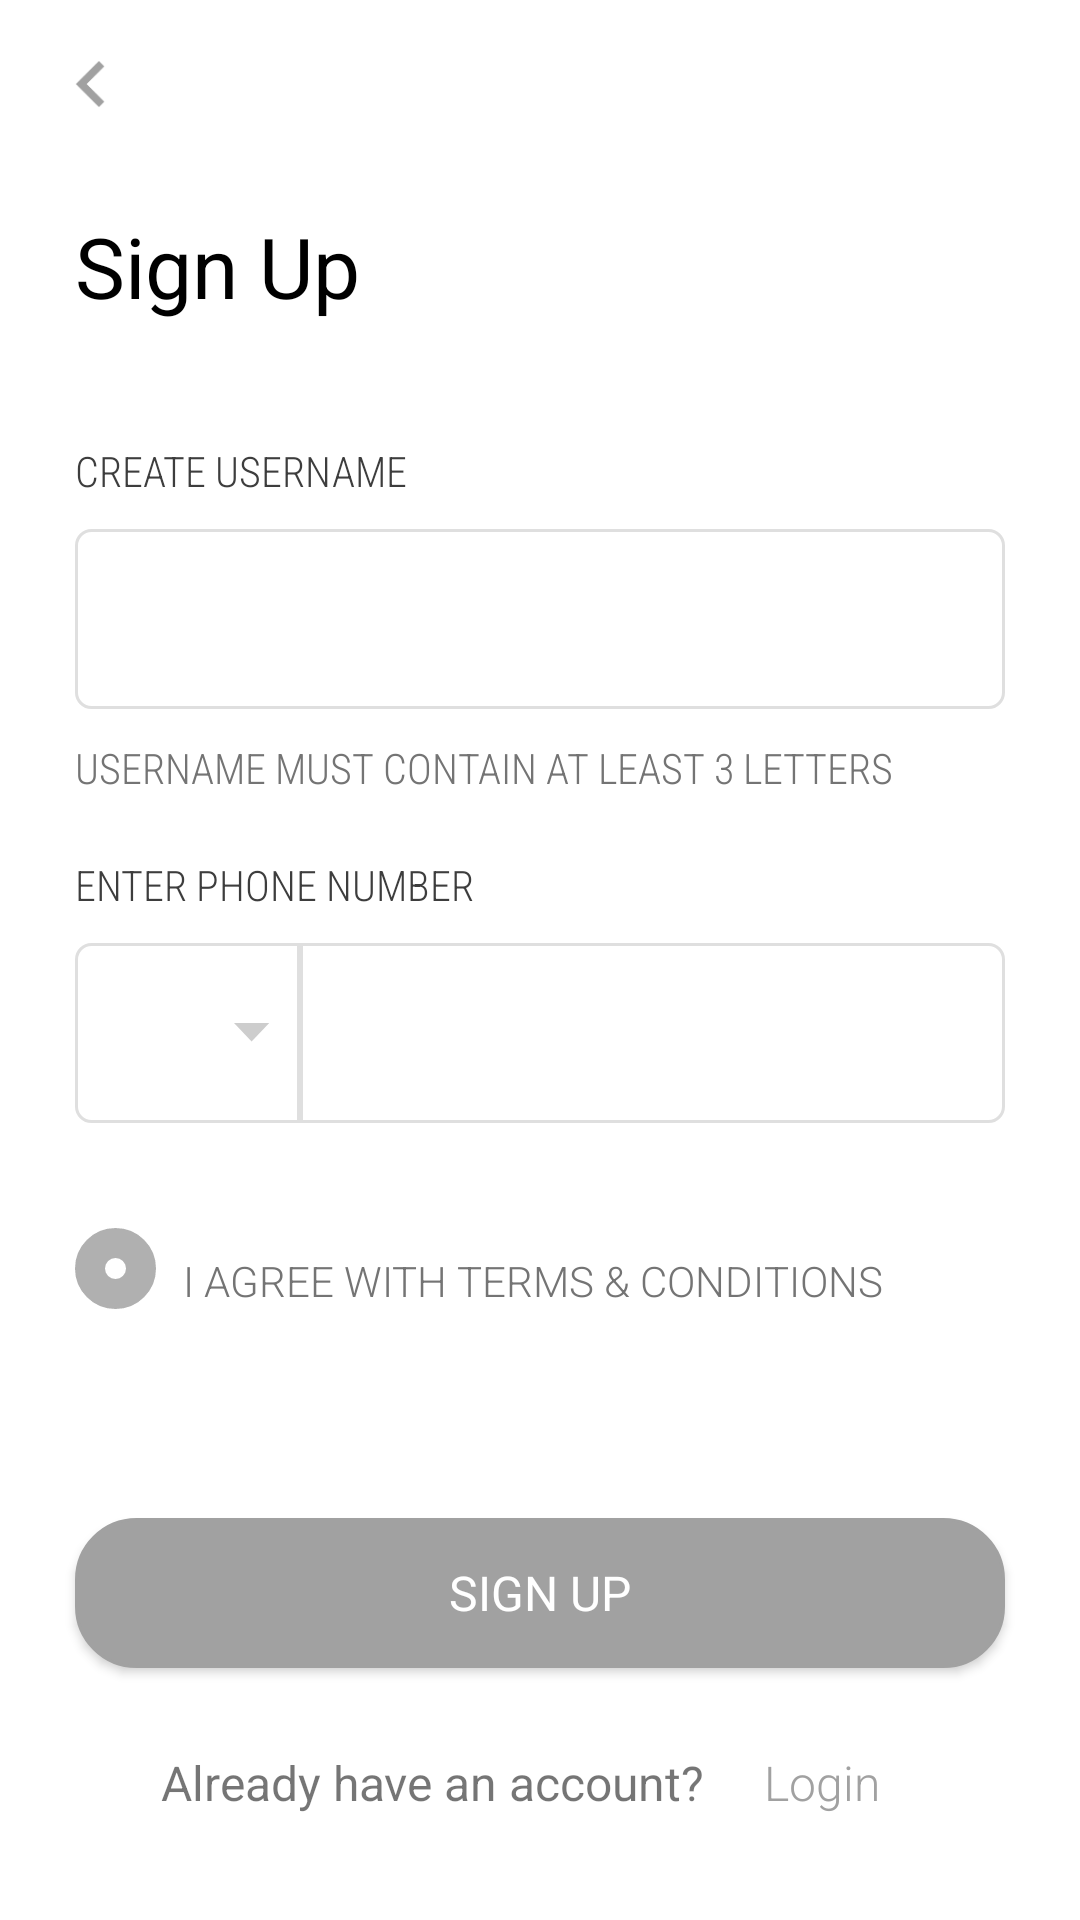

Where icons sit on this 1080 x 1920 app screen, as [left=x1, top=y1, right=x2, bottom=y2]:
navigate before: [left=76, top=61, right=104, bottom=107]
